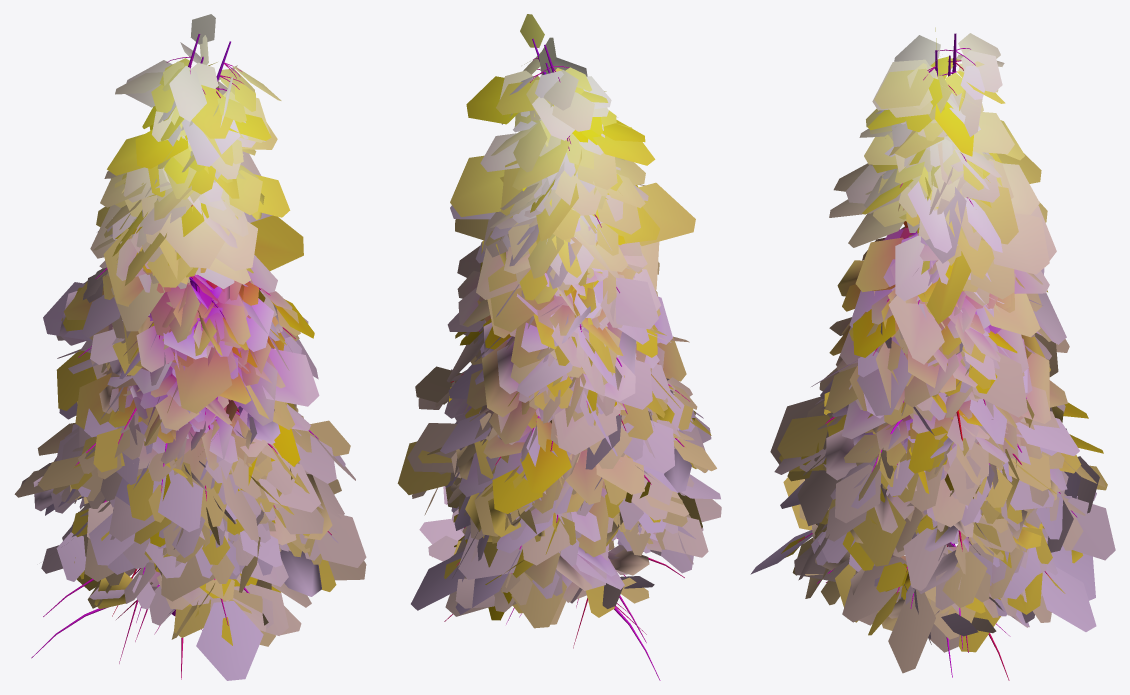
The model's file is hemlock.glb.
3 views of the same model, side by side, from view 1: azimuth 30°, elevation 25°; view 2: azimuth 150°, elevation 25°; view 3: azimuth 270°, elevation 25° (orthographic). The views are drawn at different scales.
Parts seen in each view (by area): view 1: hemlock_v0_lod0, hemlock_v1_lod0, hemlock_v2_lod0; view 2: hemlock_v2_lod0, hemlock_v1_lod0, hemlock_v0_lod0; view 3: hemlock_v1_lod0, hemlock_v2_lod0, hemlock_v0_lod0.
Part boxes in pixels (x1,y1,x2,y2): hemlock_v0_lod0: (14,14,320,615); hemlock_v1_lod0: (43,41,366,592); hemlock_v2_lod0: (31,35,366,680); hemlock_v2_lod0: (411,37,721,680); hemlock_v1_lod0: (397,14,695,543); hemlock_v0_lod0: (427,44,716,578); hemlock_v1_lod0: (777,27,1107,609); hemlock_v2_lod0: (750,55,1105,680); hemlock_v0_lod0: (770,33,1115,560).
Size of what is drawn, in the model's own units: 10.12 by 19.33 by 9.99.
